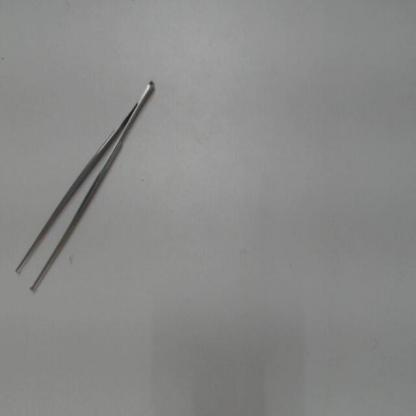Gillies Toothed Dissector: (7, 75, 161, 305)
